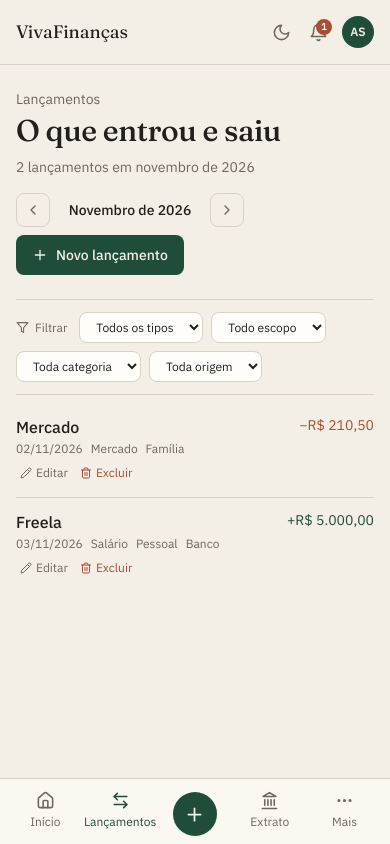
Test: Navegação e sessão › abre o sino com os alertas do dia
The width and height of the screenshot is (390, 844).
Click the button named "Alertas: 1 hoje".
click(318, 32)  # box [301,14,336,50]
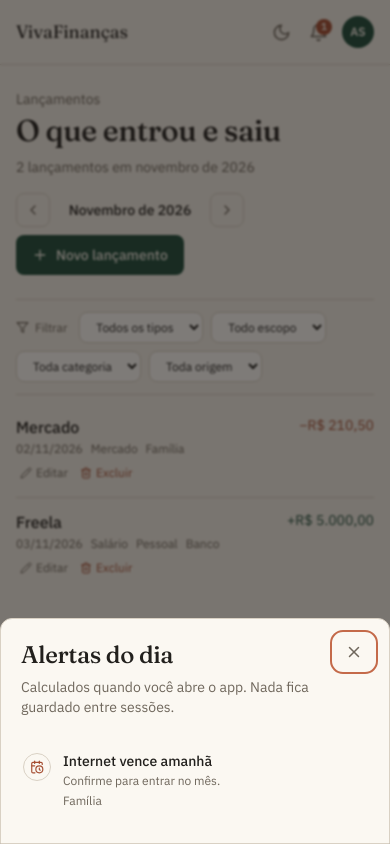
Check: the text "Internet vence amanhã" is shown, box [63,751,220,771]
